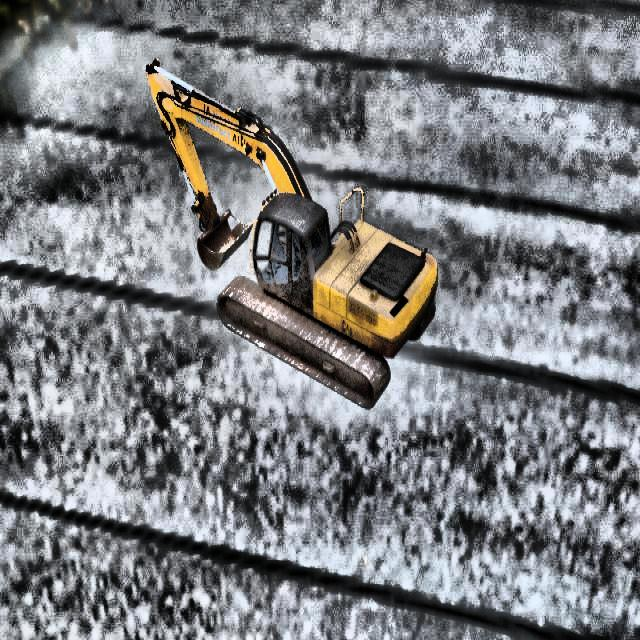excavator: (145, 58, 437, 410)
